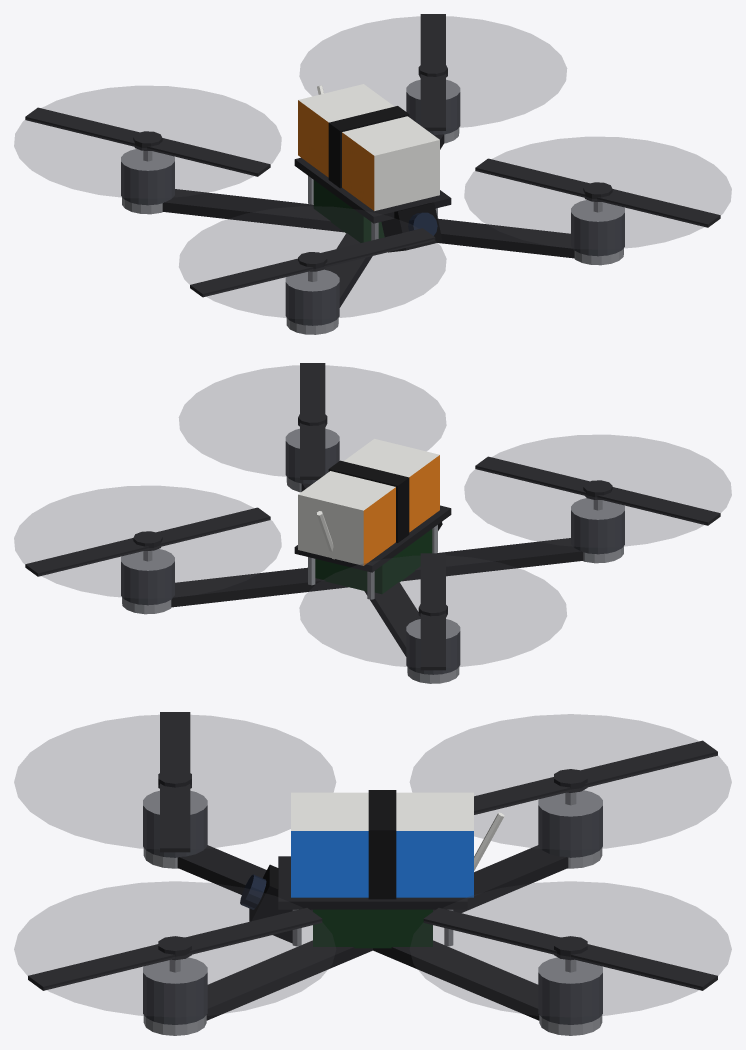
File: quad5.obj
3 renders of one model, top to bottom at view 1: azimuth 30°, elevation 25°; view 2: azimuth 150°, elevation 25°; view 3: azimuth 270°, elevation 25°, orthographic. The views are drawn at different scales.
Parts seen in each view (by area): view 1: body, prop_spin_0, prop_spin_1, prop_spin_3, prop_spin_2, prop_still_3, prop_still_0, prop_still_1, prop_still_2; view 2: body, prop_spin_0, prop_spin_1, prop_spin_2, prop_spin_3, prop_still_1, prop_still_2, prop_still_0, prop_still_3; view 3: body, prop_spin_2, prop_spin_3, prop_spin_1, prop_spin_0, prop_still_2, prop_still_3, prop_still_0, prop_still_1.
Boxes of the visible parts, box(x1,y1,x2,y2) form: body: box(121, 79, 624, 334); prop_spin_0: box(14, 86, 281, 198); prop_spin_1: box(179, 206, 446, 318); prop_spin_3: box(464, 137, 731, 249); prop_spin_2: box(299, 16, 566, 128); prop_still_3: box(475, 158, 720, 227); prop_still_0: box(25, 107, 270, 176); prop_still_1: box(190, 228, 435, 297); prop_still_2: box(418, 14, 447, 130); body: box(121, 428, 624, 683); prop_spin_0: box(299, 555, 566, 667); prop_spin_1: box(464, 435, 731, 547); prop_spin_2: box(14, 486, 281, 598); prop_spin_3: box(179, 365, 446, 477); prop_still_1: box(475, 456, 720, 525); prop_still_2: box(25, 507, 270, 576); prop_still_0: box(418, 553, 447, 670); prop_still_3: box(298, 363, 327, 479); body: box(143, 790, 602, 1035); prop_spin_2: box(410, 881, 731, 1016); prop_spin_3: box(14, 881, 335, 1016); prop_spin_1: box(14, 715, 335, 849); prop_spin_0: box(410, 714, 731, 849); prop_still_2: box(423, 908, 717, 990); prop_still_3: box(28, 908, 322, 990); prop_still_0: box(474, 740, 717, 814); prop_still_1: box(158, 712, 191, 852).
Size of the model in its own units: 0.2886 by 0.0571 by 0.2886.
